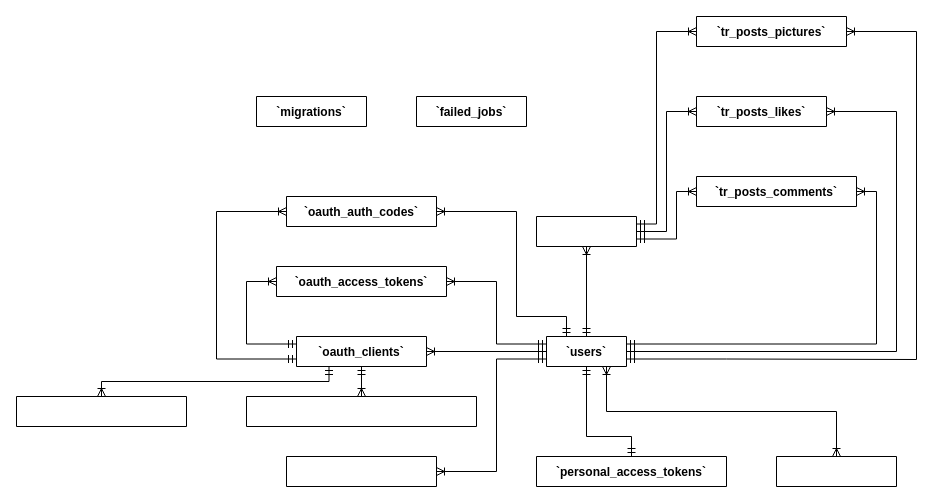
The diagram is 933 pixels wide and 503 high, and some of its shapes have lost their labels. The shapes that lost their labels are listed below. From the top down, each one's box as (x1, y1, x2, y2) in pixels, then its label:
(536, 216, 636, 246): `tm_posts`
(16, 396, 186, 426): `oauth_refresh_tokens`
(246, 396, 476, 426): `oauth_personal_access_clients`
(286, 456, 436, 486): `password_resets`
(776, 456, 896, 486): `tr_followers`
